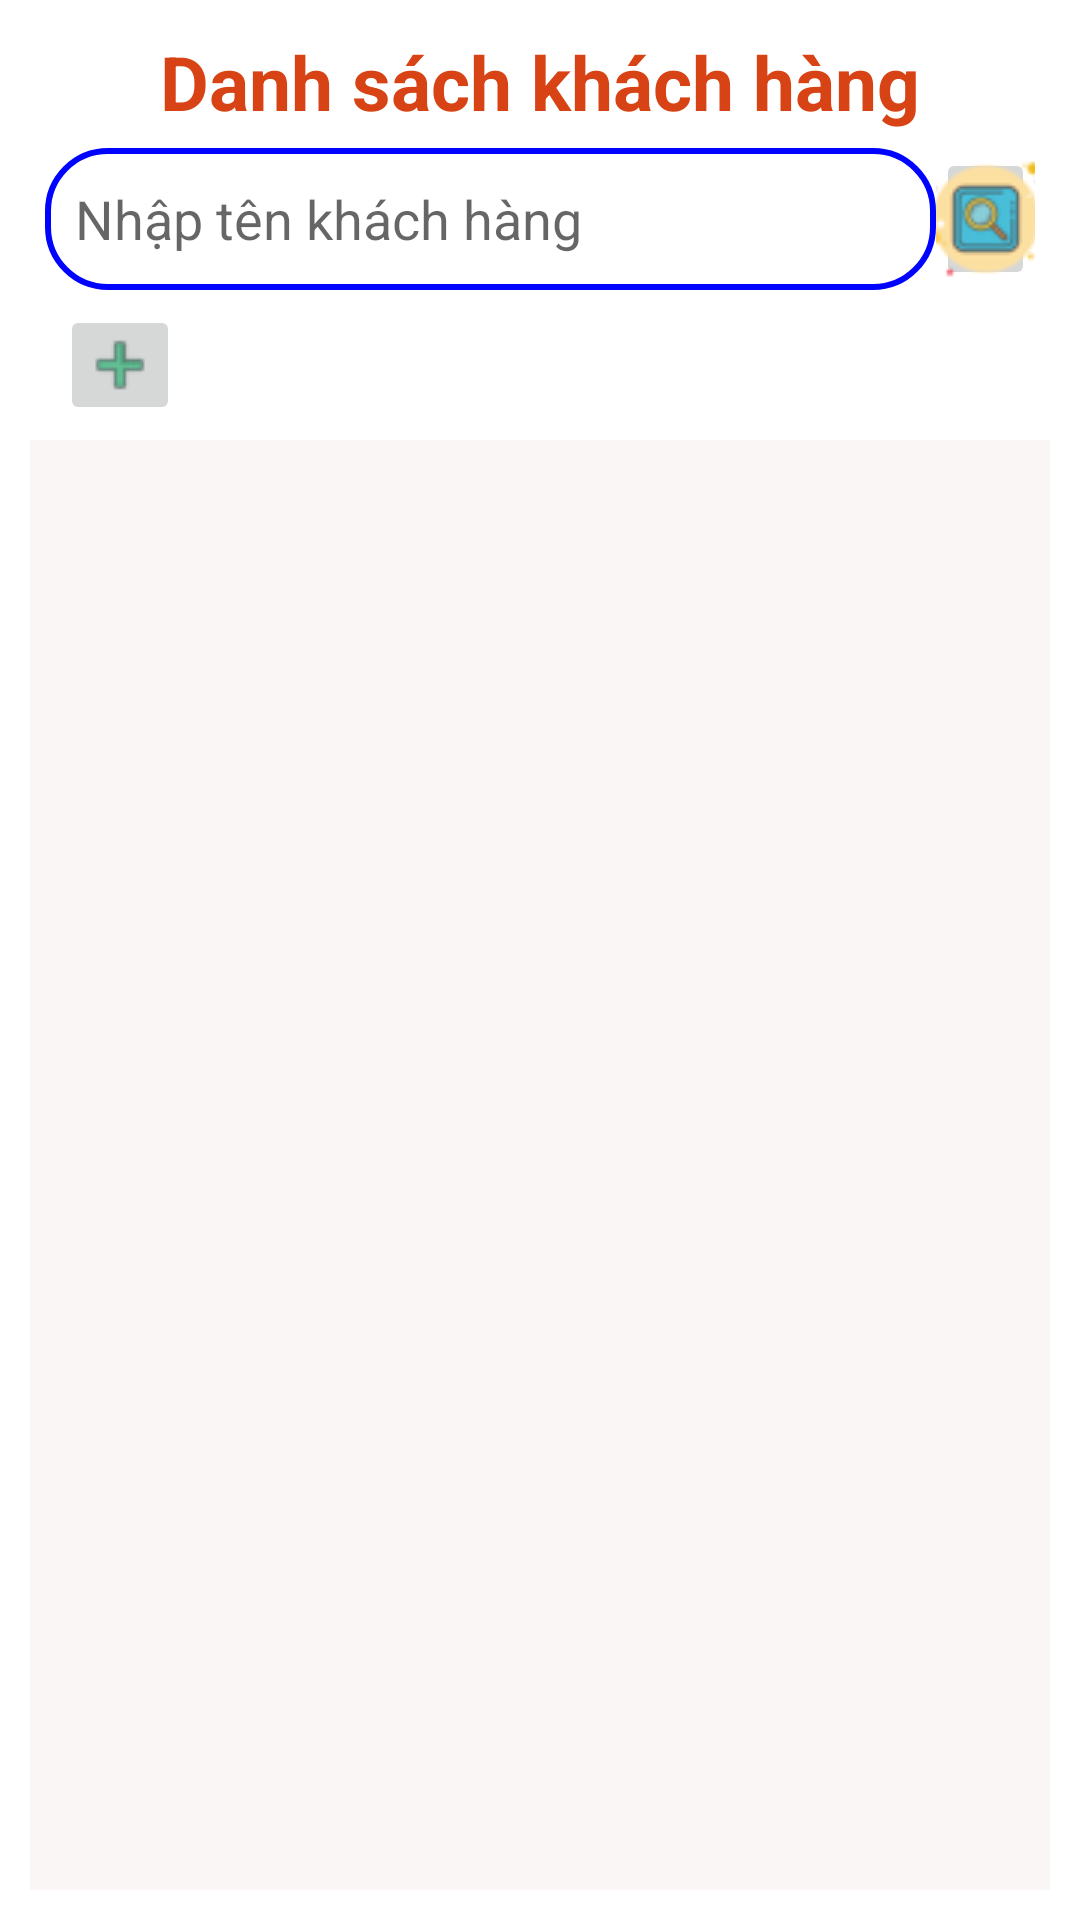

Point at icon controls on the screen. Image size 1080x1920, points as [x,y].
find: [985,219]
plus: [120,365]
